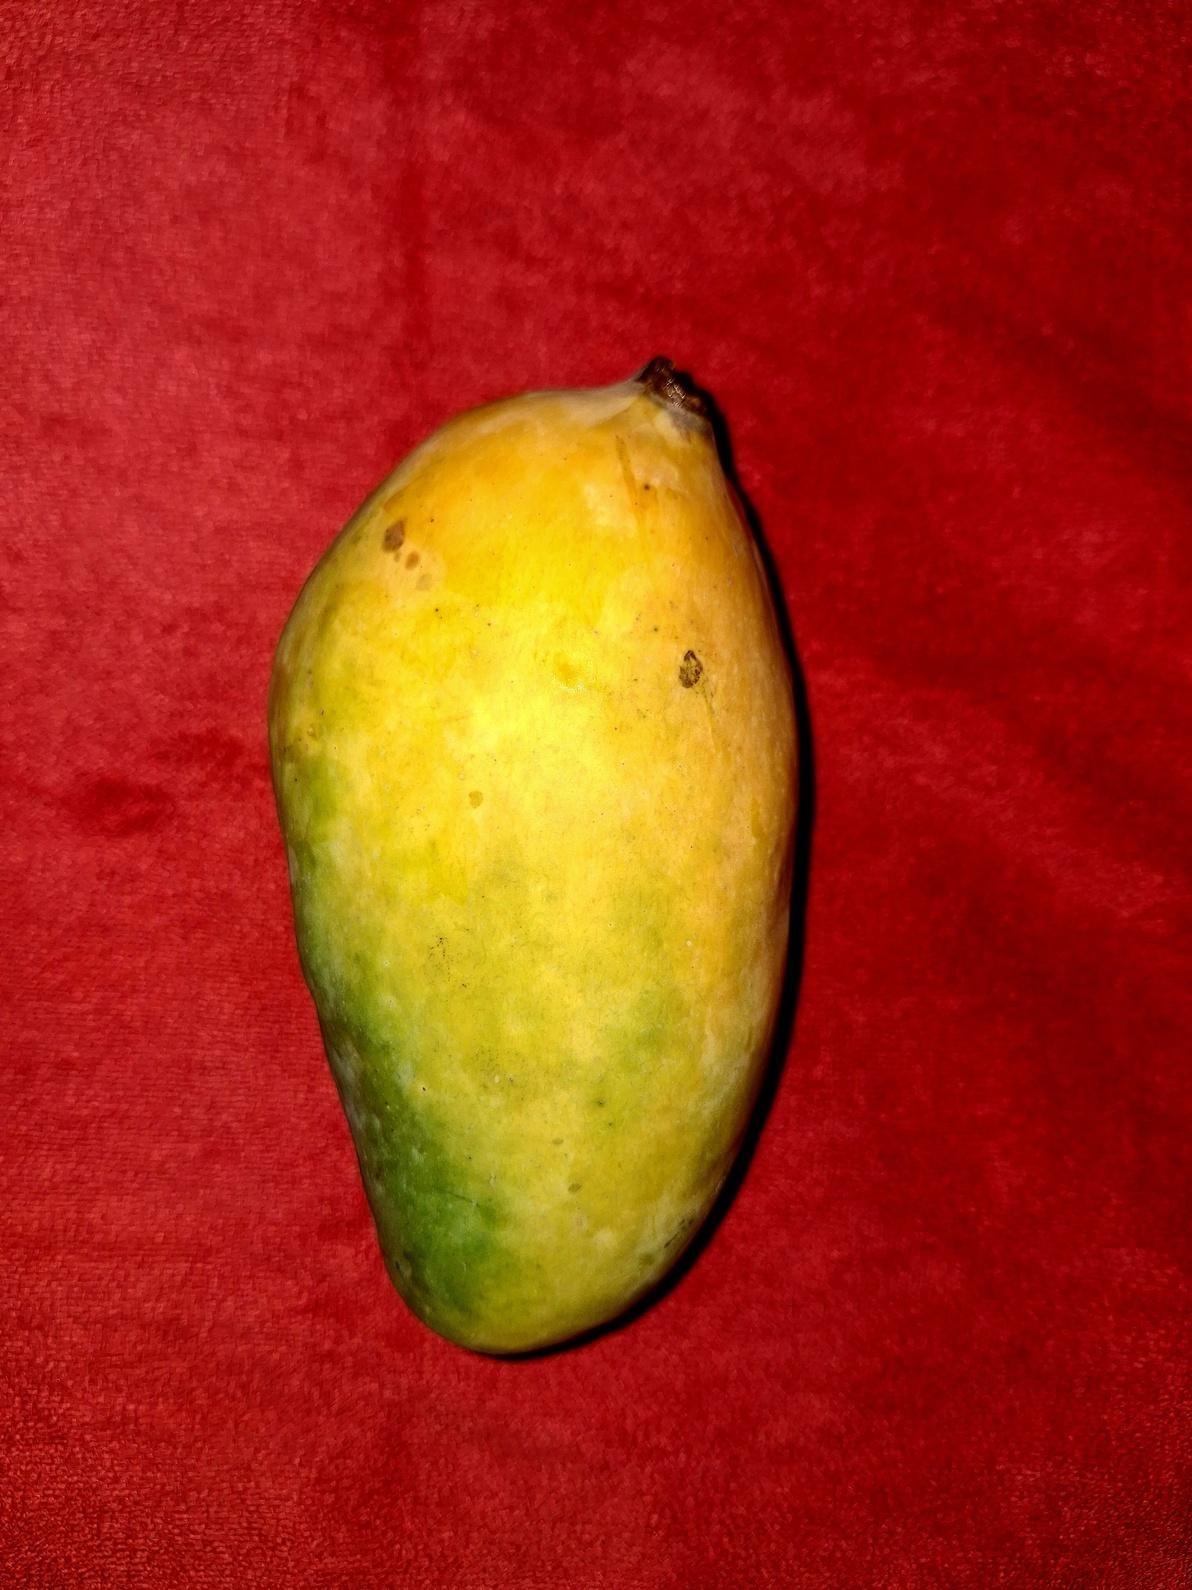mango: (265, 353, 800, 1356)
